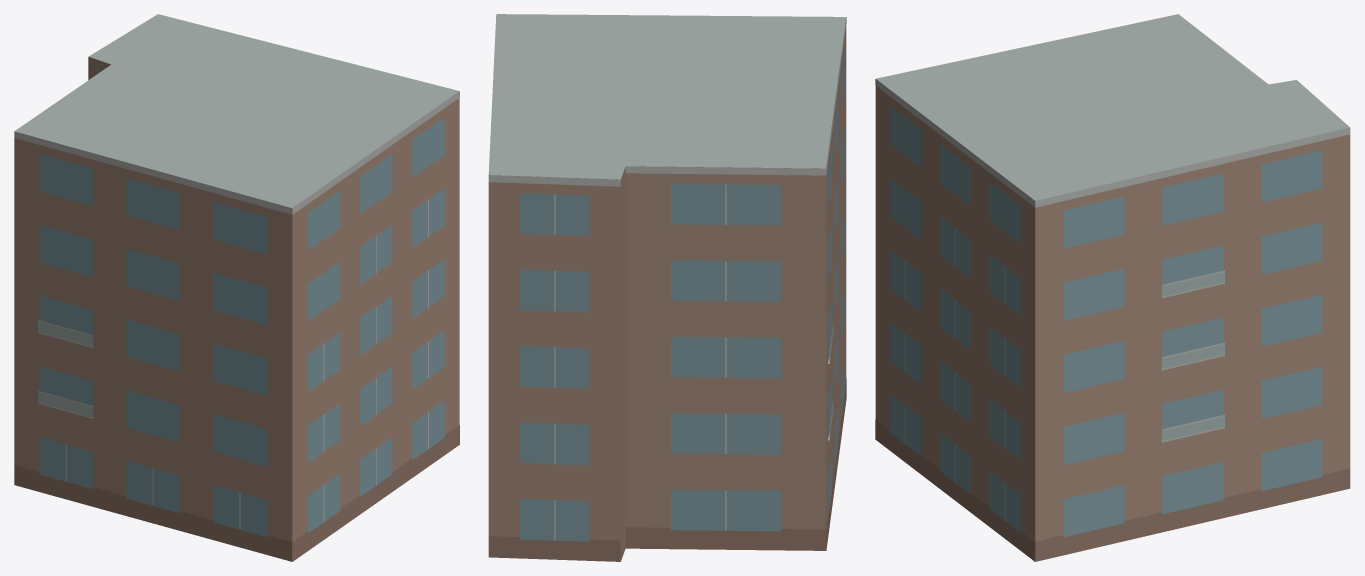
The model's file is survey-upis-32648314.glb.
3 renders of one model, left to right at view 1: azimuth 30°, elevation 25°; view 2: azimuth 150°, elevation 25°; view 3: azimuth 270°, elevation 25°, orthographic. The views are drawn at different scales.
Visible parts, largest first — view 1: survey-upis-32648314.tmp; view 2: survey-upis-32648314.tmp; view 3: survey-upis-32648314.tmp.
Part boxes in pixels (box(x1,y1,x2,y2)): survey-upis-32648314.tmp: box(14, 14, 459, 561); survey-upis-32648314.tmp: box(488, 14, 846, 561); survey-upis-32648314.tmp: box(875, 14, 1350, 561).
Size of the model in its own units: 14.56 by 13.1 by 15.63.
